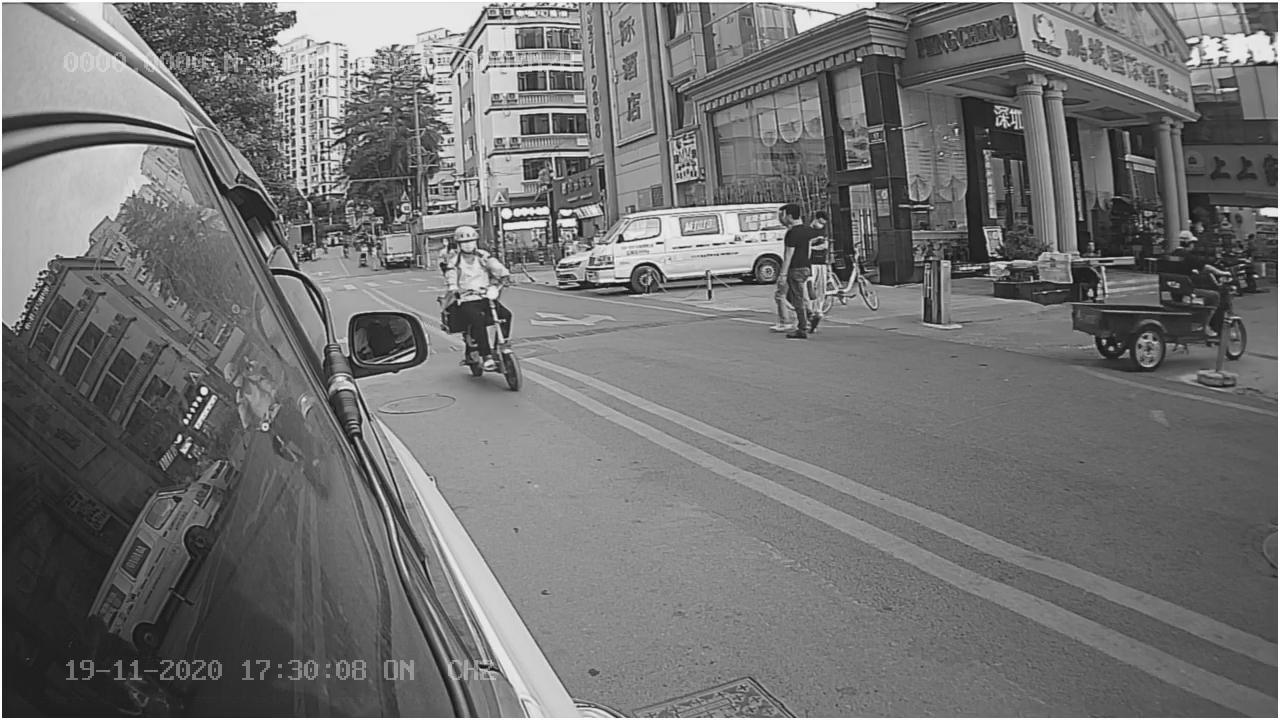person: (431, 222, 507, 286)
